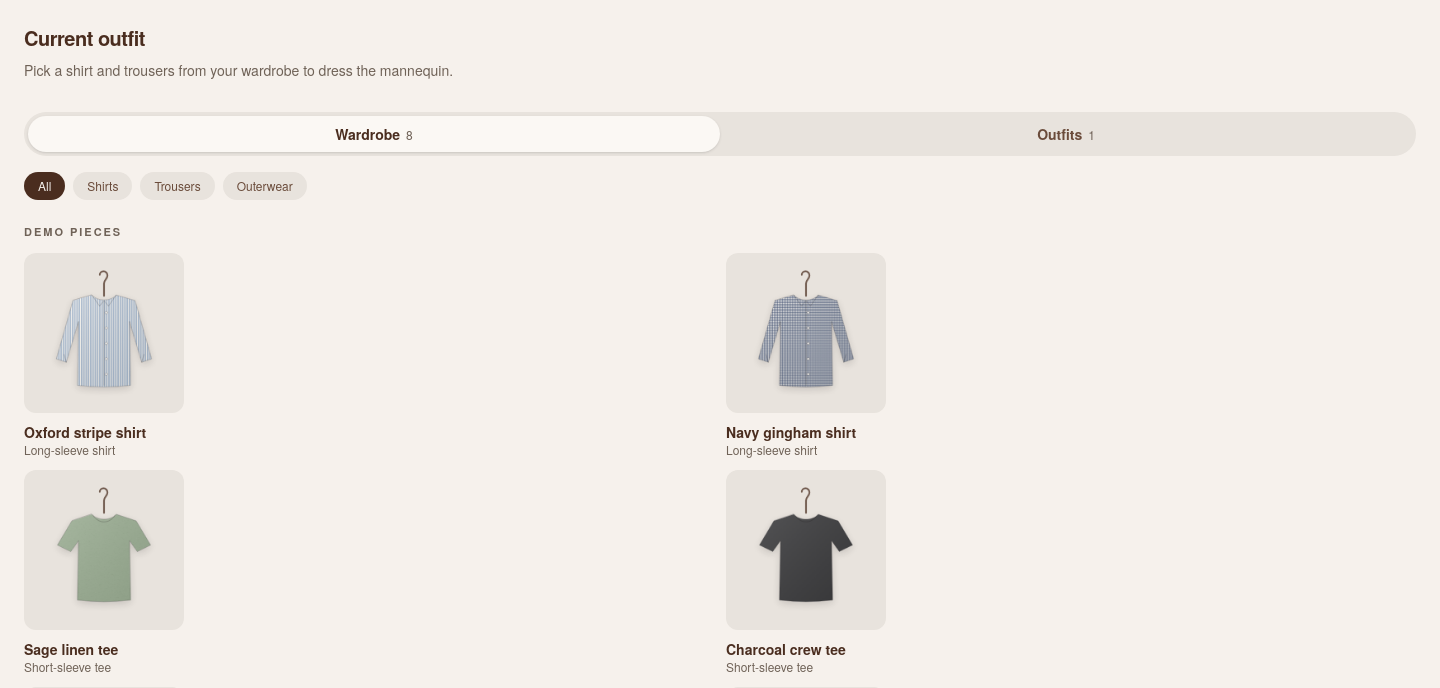
Scenario: WardrobePanel › switches between the wardrobe and saved outfits, with the arrow keys too
Click the tab "Outfits 1" at (1066, 134), box [720,116,1412,152]
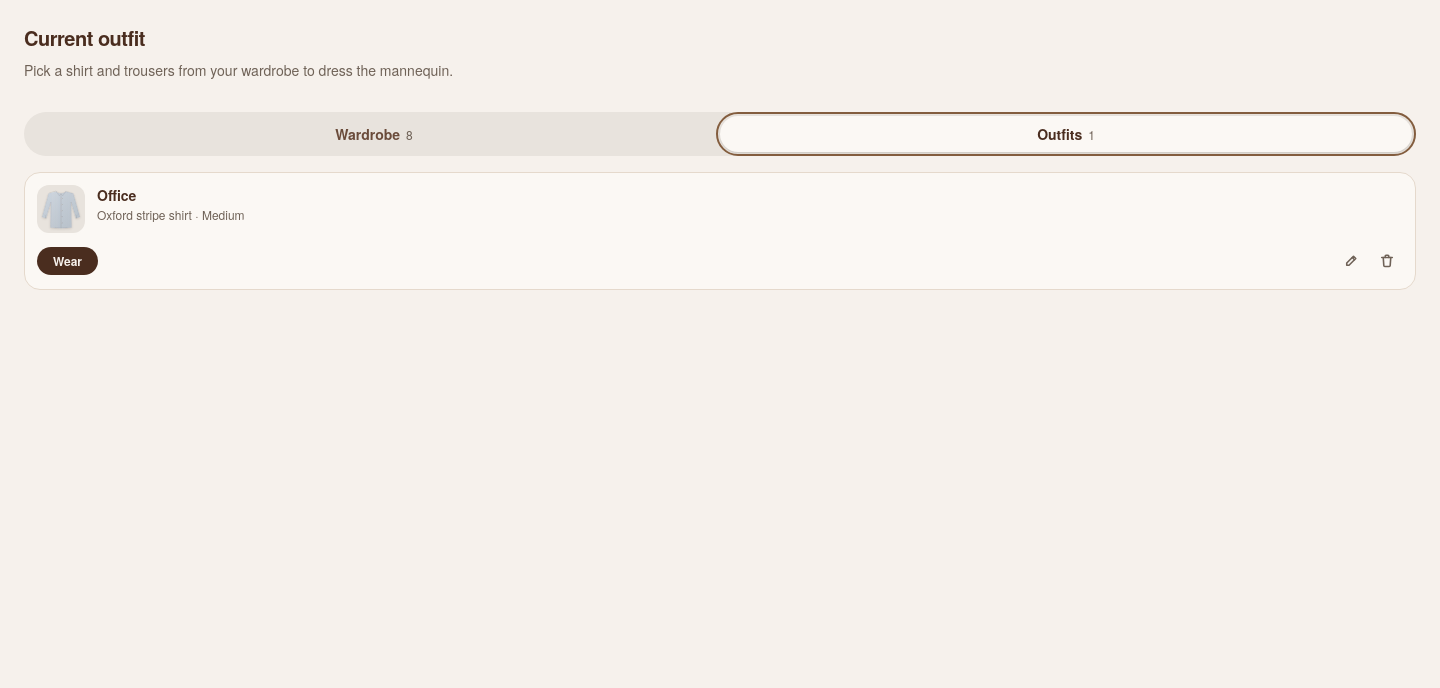
Result: the element "Office" is shown at [24,172,1416,290]
Result: the heading "Demo pieces" is gone
Press Arrowleft
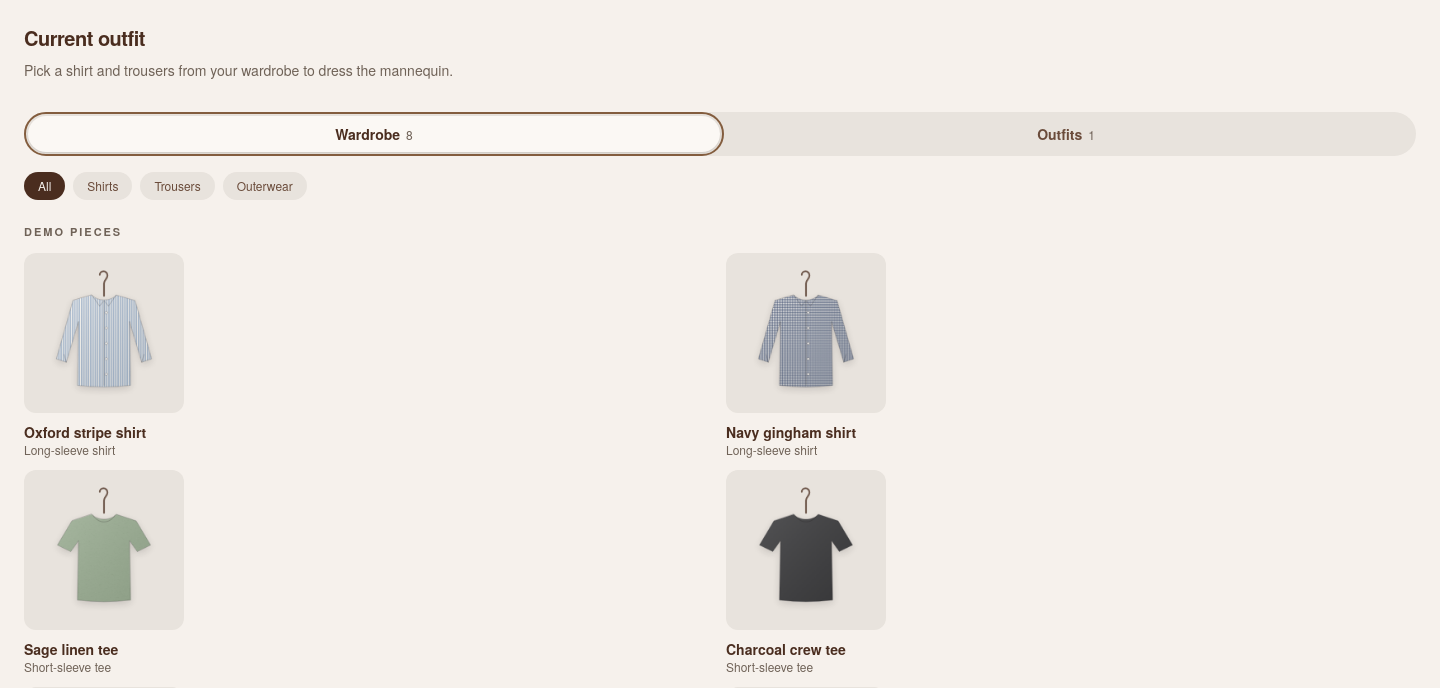
Result: the number of list items is 8
